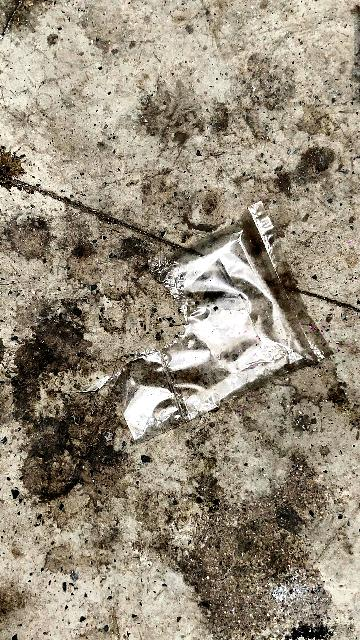polythene: (132, 191, 336, 414)
